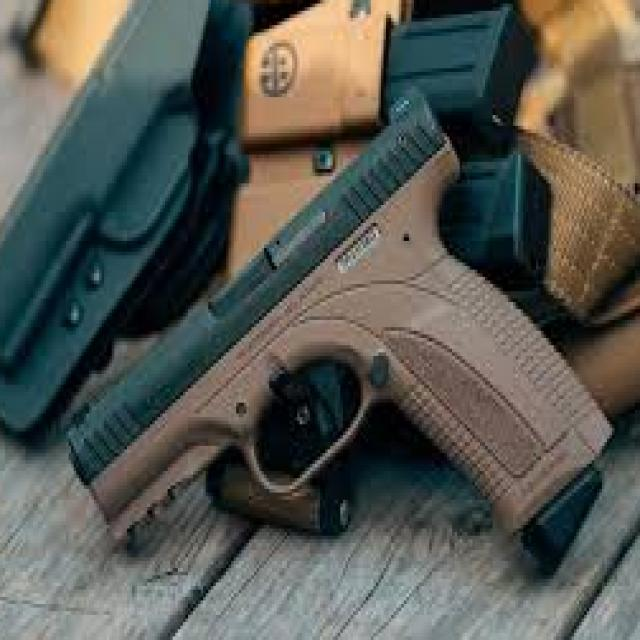Gun: (84, 66, 608, 619)
